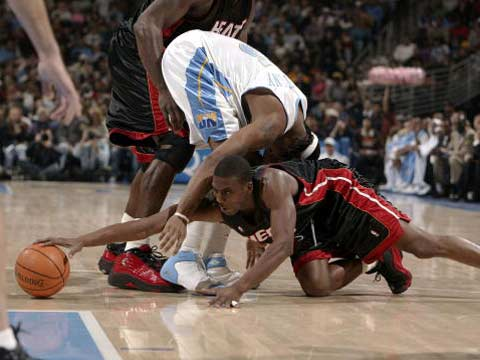10+: (1, 1, 480, 360)
down: (25, 158, 480, 320)
